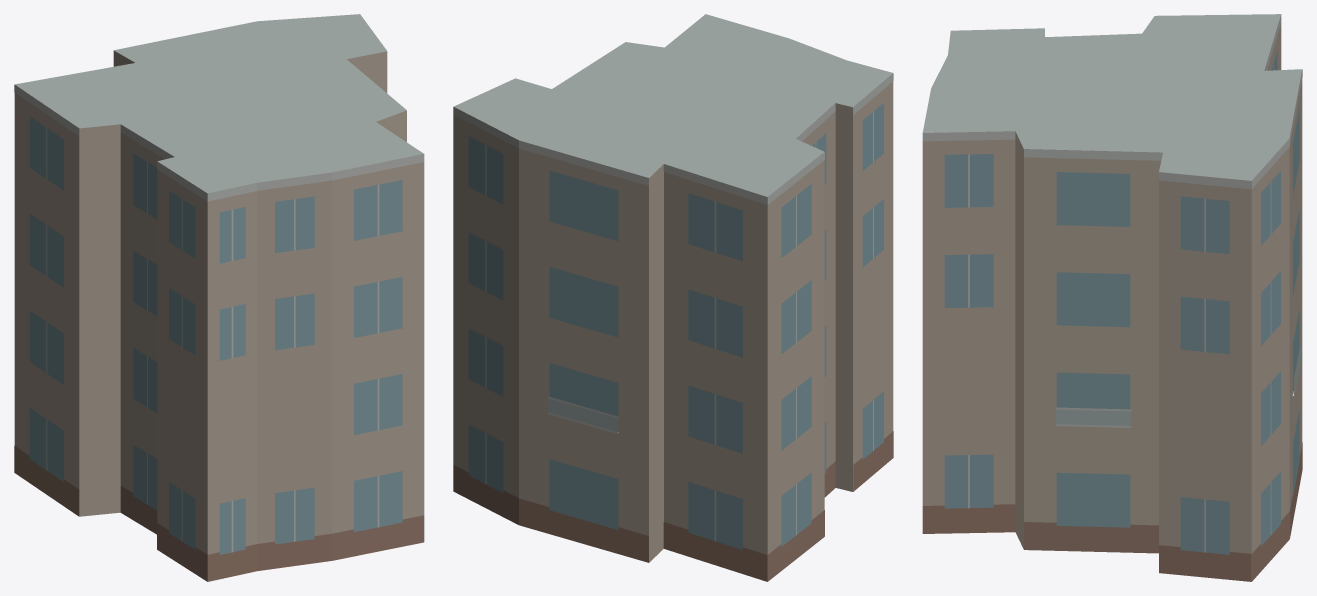
The model's file is survey-upis-32463024.glb.
The picture shows the model from 3 angles, left to right: view 1: azimuth 30°, elevation 25°; view 2: azimuth 150°, elevation 25°; view 3: azimuth 270°, elevation 25°; orthographic projection. The views are drawn at different scales.
Visible parts, largest first — view 1: survey-upis-32463024.tmp; view 2: survey-upis-32463024.tmp; view 3: survey-upis-32463024.tmp.
Boxes of the visible parts, x1,y1,x2,y2 form: survey-upis-32463024.tmp: (14, 14, 424, 581); survey-upis-32463024.tmp: (453, 14, 893, 581); survey-upis-32463024.tmp: (922, 14, 1302, 581).
Bounding box in the file's own units: 10.46 × 11.7 × 10.05.
